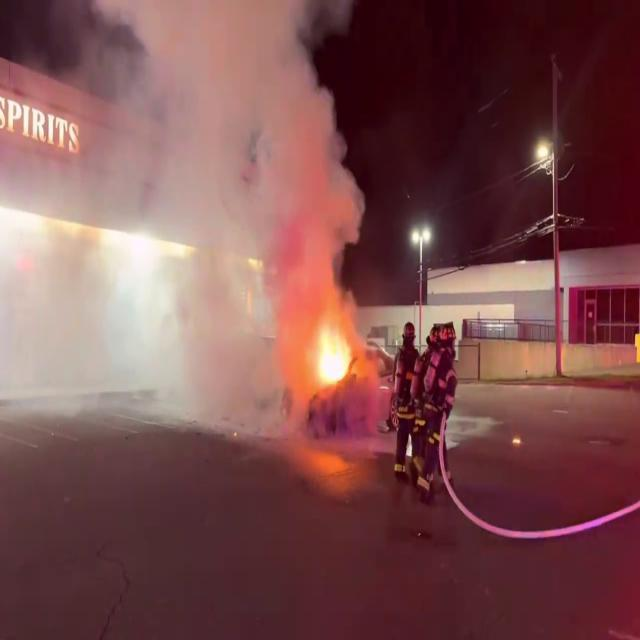Fire: (308, 316, 354, 386)
Smoke: (0, 0, 366, 339)
